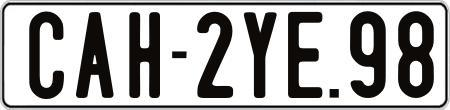2: (196, 10, 234, 102)
8: (396, 9, 436, 102)
9: (349, 10, 386, 99)
A: (73, 11, 110, 102)
C: (29, 12, 67, 104)
E: (287, 10, 325, 101)
H: (129, 11, 161, 99)
Y: (241, 11, 280, 97)
